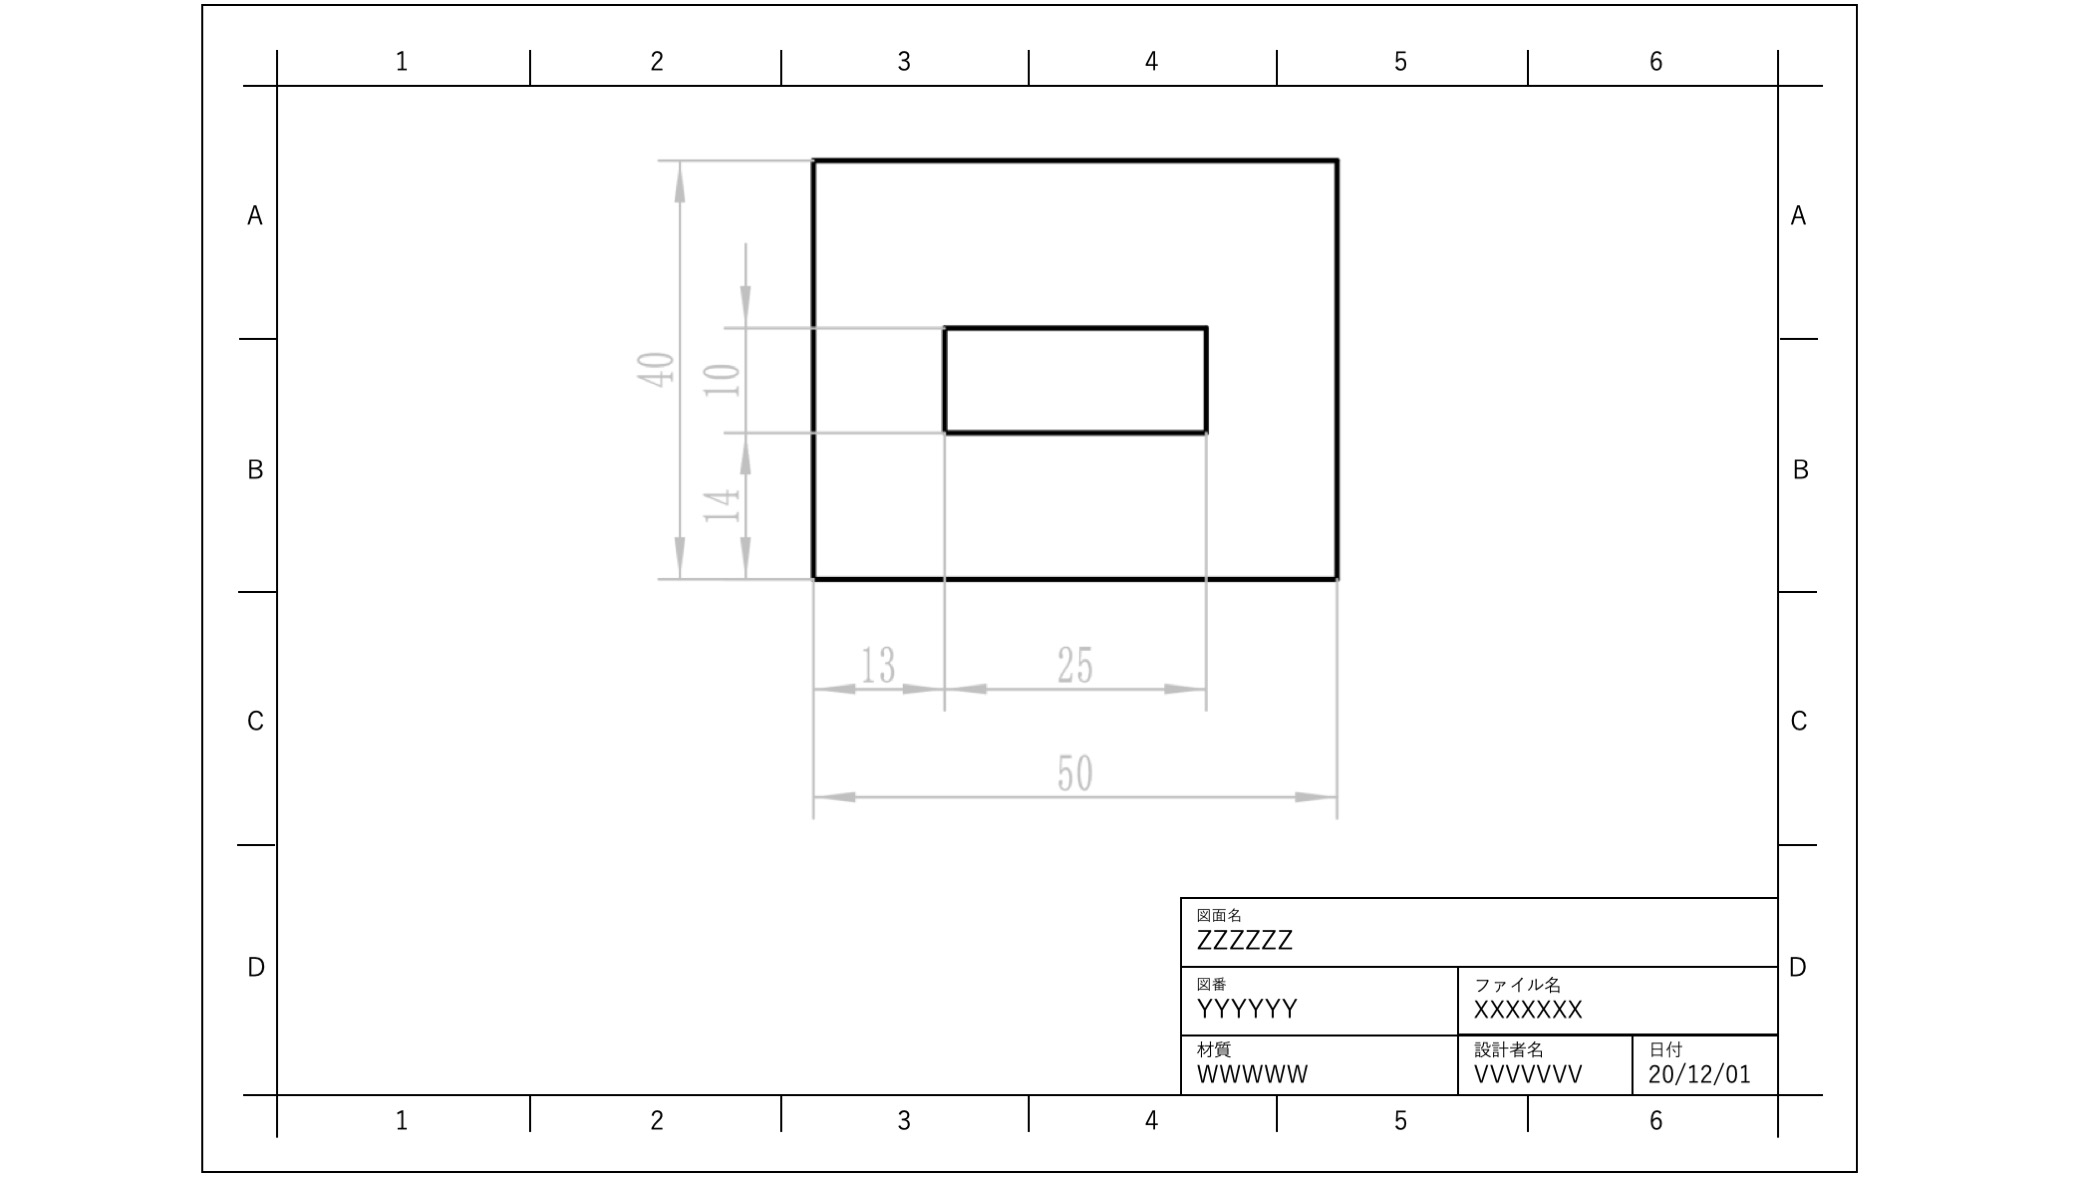rectangle: (929, 310, 1217, 446)
